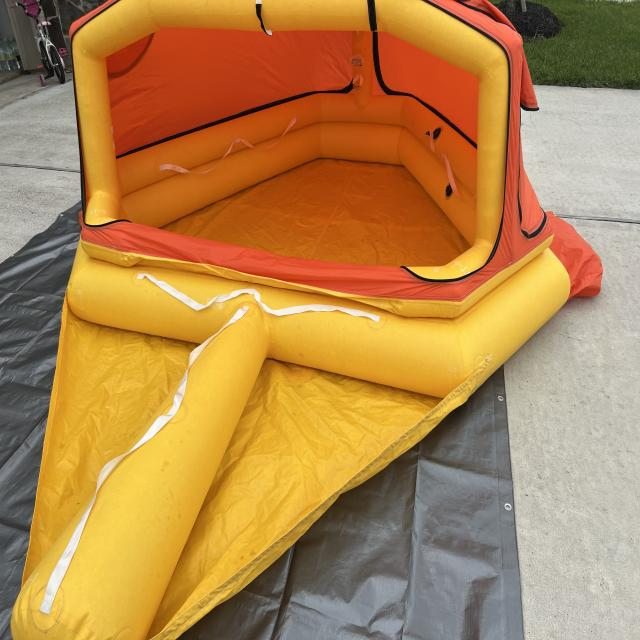Multi-person_life_raft: (11, 1, 640, 639), (11, 0, 604, 639)
